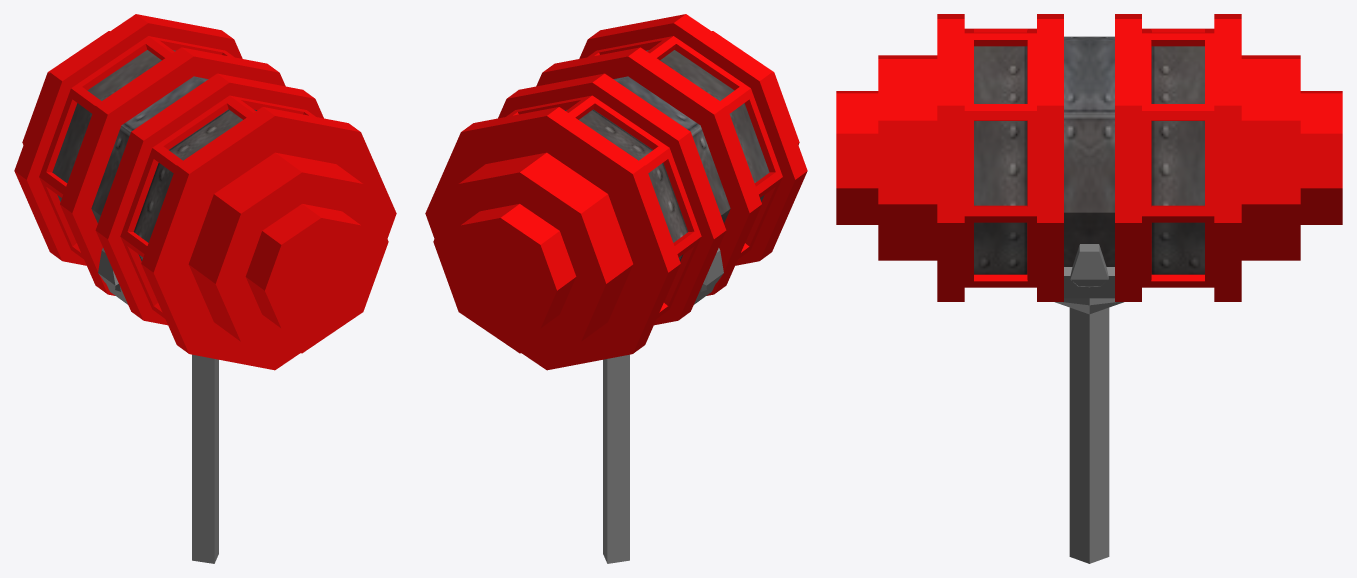
The model's file is pipe_O.glb.
3 views of the same model, side by side, from view 1: azimuth 30°, elevation 25°; view 2: azimuth 150°, elevation 25°; view 3: azimuth 270°, elevation 25° (orthographic). The views are drawn at different scales.
Visible parts, largest first — view 1: zhuti.O; view 2: zhuti.O; view 3: zhuti.O.
Boxes of the visible parts, bbox=[...] form: zhuti.O: bbox=[14, 14, 396, 563]; zhuti.O: bbox=[425, 14, 807, 563]; zhuti.O: bbox=[836, 14, 1342, 563].
Size of the model in its own units: 4.21 by 8.14 by 6.95.
1 material, 1 textured.
